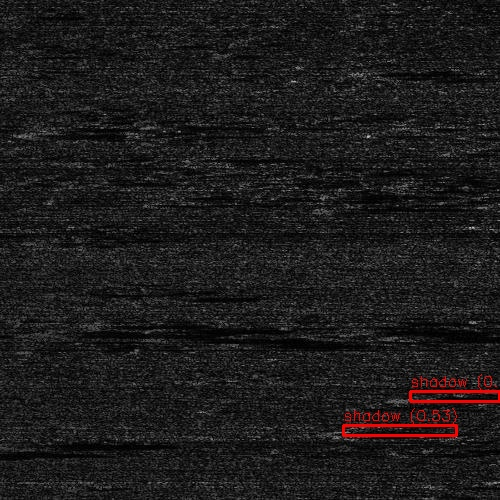rock: (349, 330, 474, 343), (305, 324, 410, 335), (82, 315, 165, 328), (18, 324, 111, 335), (391, 391, 454, 402), (0, 439, 68, 448), (358, 66, 399, 77), (331, 428, 372, 437), (131, 335, 204, 340)
shadow: (65, 324, 251, 335), (124, 315, 245, 328), (358, 324, 500, 335), (412, 330, 500, 343), (27, 439, 142, 448), (379, 66, 466, 77), (423, 391, 500, 402), (352, 428, 438, 437), (168, 335, 294, 340), (0, 449, 84, 456)
